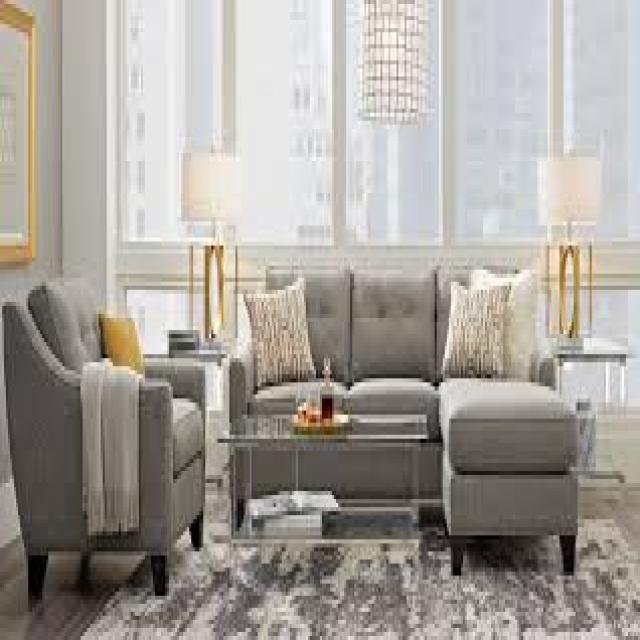Chair: (2, 274, 214, 617)
Lamp: (532, 147, 608, 351), (174, 124, 245, 339), (352, 2, 433, 138)
Sofa: (224, 243, 578, 595)
Table: (216, 401, 431, 605)
